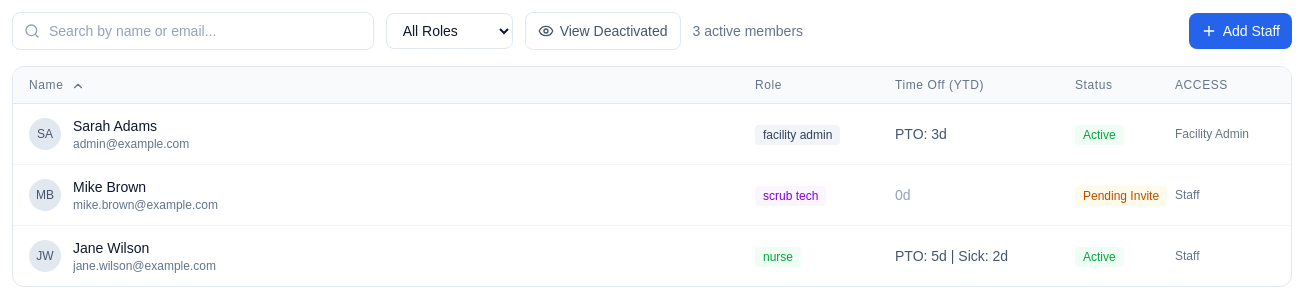
Test: StaffDirectoryTab › empty states › shows filter-specific empty state when filters eliminate all results
# Search for something that matches nobody
In the field with placeholder "Search by name or email...": x=193, y=31 [12,12,374,50], type "zzzznotfound"
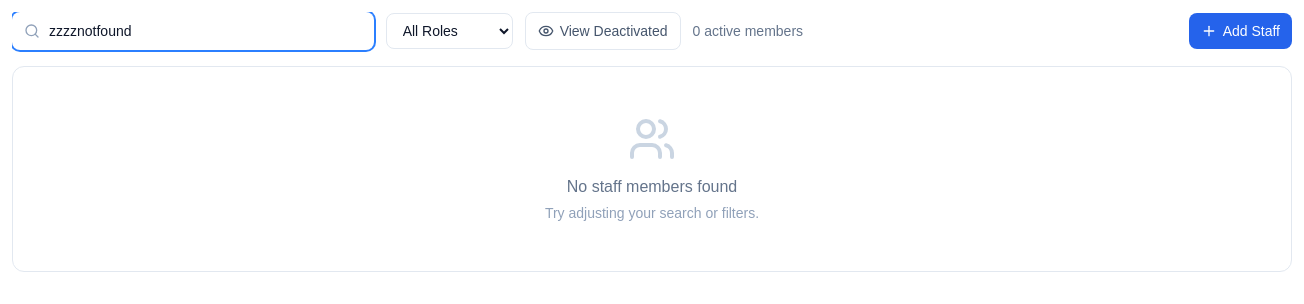
Expected: the text "No staff members found" is shown, [567,178,737,195]
Expected: the text "Try adjusting your search or filters." is shown, [545,205,759,221]
